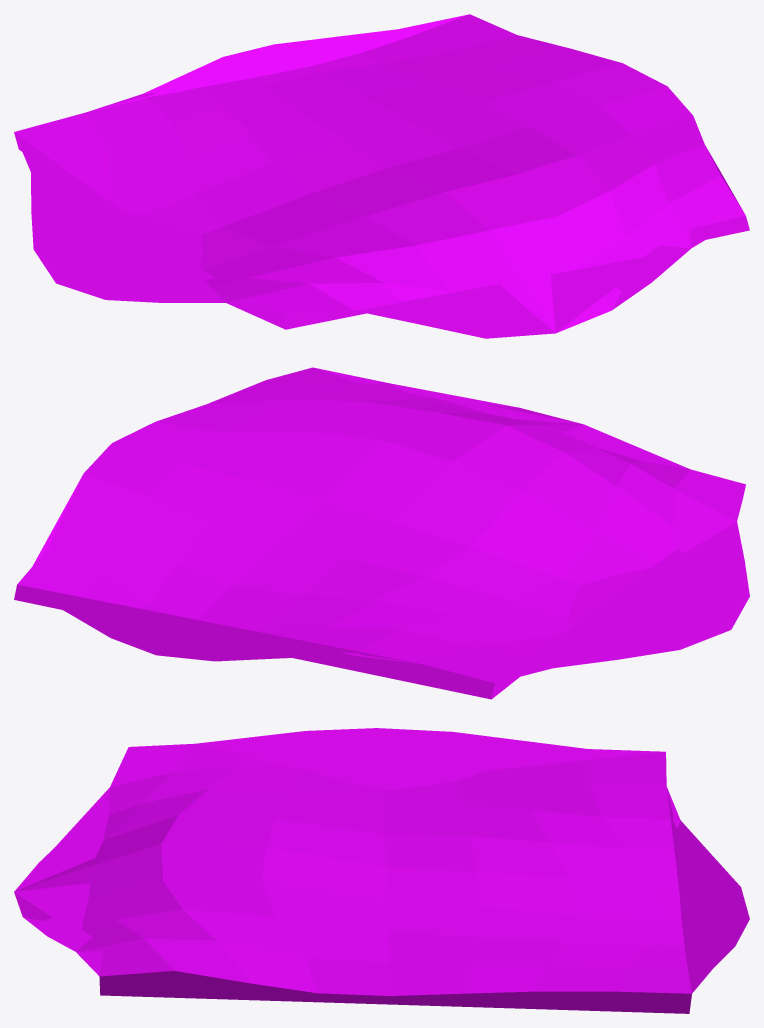
The model's file is mayonnaise.gltf.
3 renders of one model, top to bottom at view 1: azimuth 30°, elevation 25°; view 2: azimuth 150°, elevation 25°; view 3: azimuth 270°, elevation 25°, orthographic. The views are drawn at different scales.
Parts seen in each view (by area): view 1: Plane.001; view 2: Plane.001; view 3: Plane.001.
Part boxes in pixels (x1=…): Plane.001: x1=14, y1=14, x2=749, y2=338; Plane.001: x1=14, y1=367, x2=749, y2=699; Plane.001: x1=14, y1=728, x2=749, y2=1013.
Bounding box in the file's own units: 2.2 × 0.1751 × 2.2.
